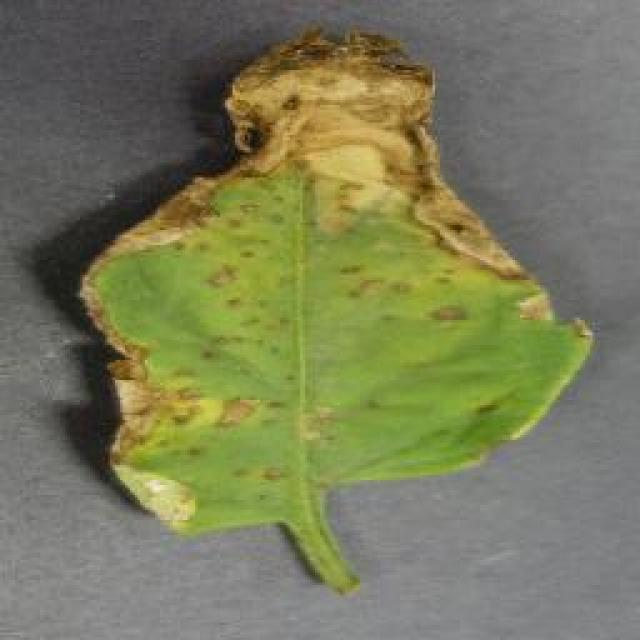bacterial spot: (73, 20, 595, 597)
